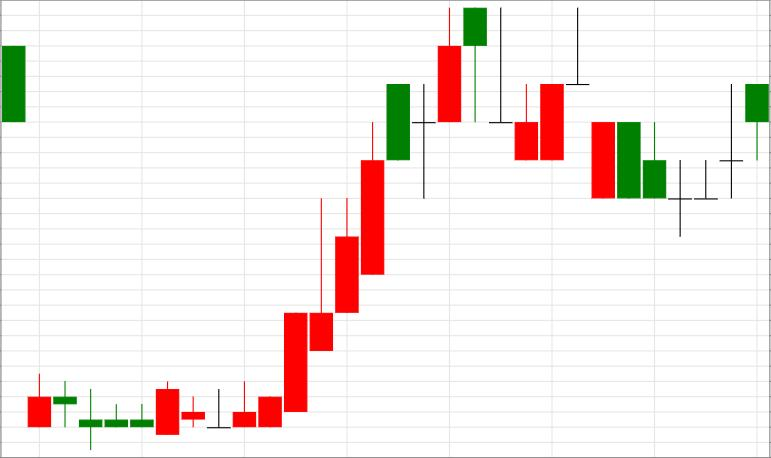hanging_man_fall: (233, 8, 488, 428)
